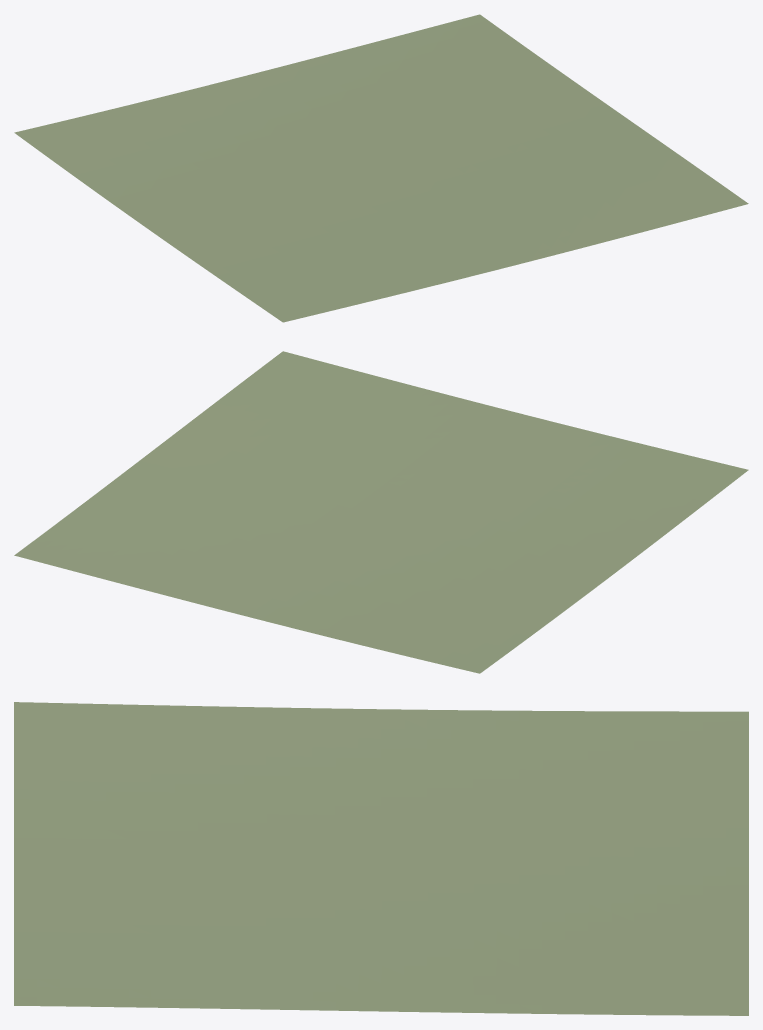
The model's file is expanse-16-29.glb.
3 renders of one model, top to bottom at view 1: azimuth 30°, elevation 25°; view 2: azimuth 150°, elevation 25°; view 3: azimuth 270°, elevation 25°, orthographic. The views are drawn at different scales.
Visible parts, largest first — view 1: expanse-16-29; view 2: expanse-16-29; view 3: expanse-16-29.
Boxes of the visible parts, x1,y1,x2,y2 form: expanse-16-29: [14, 14, 748, 322]; expanse-16-29: [14, 351, 748, 673]; expanse-16-29: [14, 702, 748, 1015].
Bounding box in the file's own units: 256 × 6.53 × 256.
